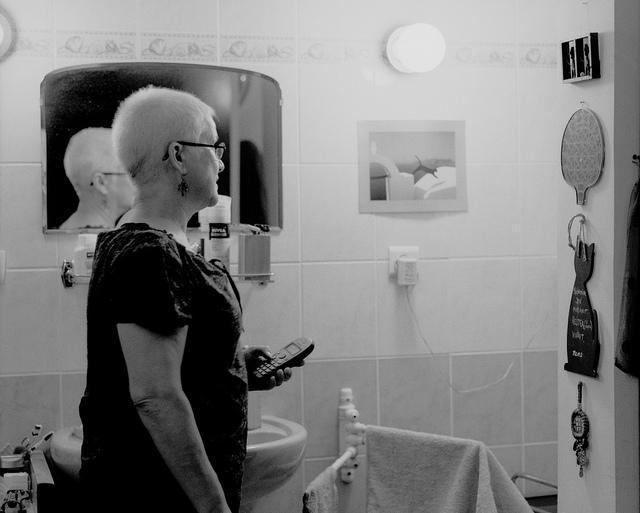Lavamanos: (41, 393, 311, 502)
